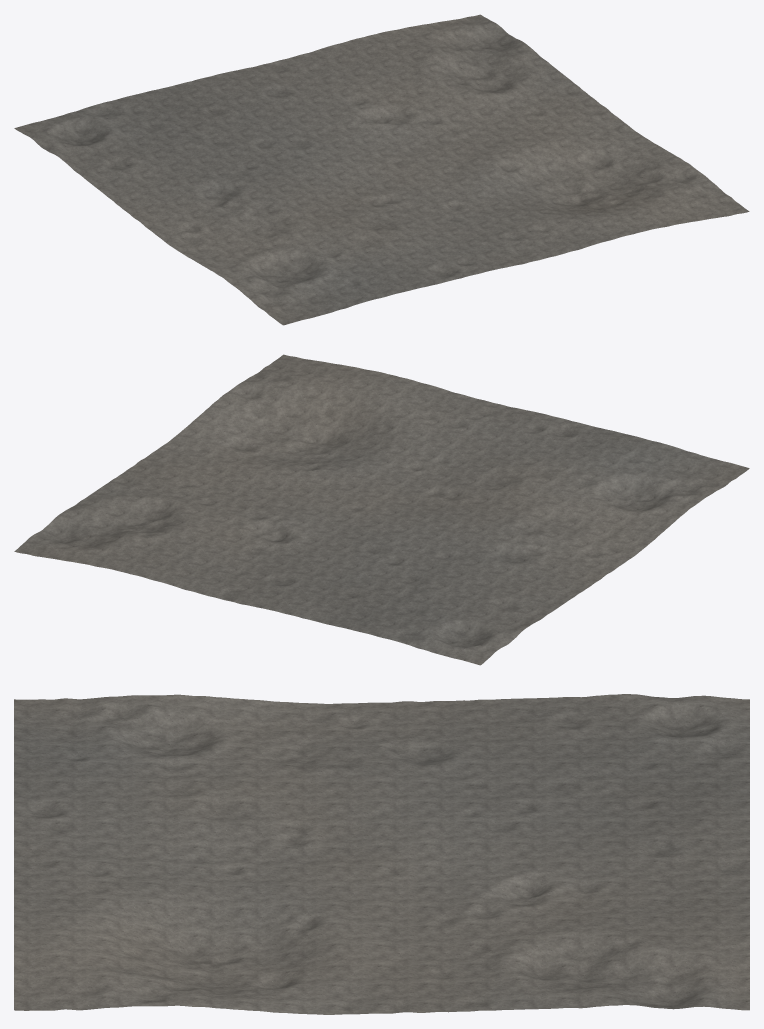
Rendered from moon-surface-tile.glb.
The picture shows the model from 3 angles, top to bottom: view 1: azimuth 30°, elevation 25°; view 2: azimuth 150°, elevation 25°; view 3: azimuth 270°, elevation 25°; orthographic projection. The views are drawn at different scales.
Parts seen in each view (by area): view 1: moon-surface-tile; view 2: moon-surface-tile; view 3: moon-surface-tile.
Boxes of the visible parts, box(x1,y1,x2,y2) form: moon-surface-tile: box(14, 14, 749, 325); moon-surface-tile: box(14, 354, 749, 665); moon-surface-tile: box(14, 694, 749, 1014).
Bounding box in the file's own units: 32 × 1.45 × 32.
1 material, 1 textured.
